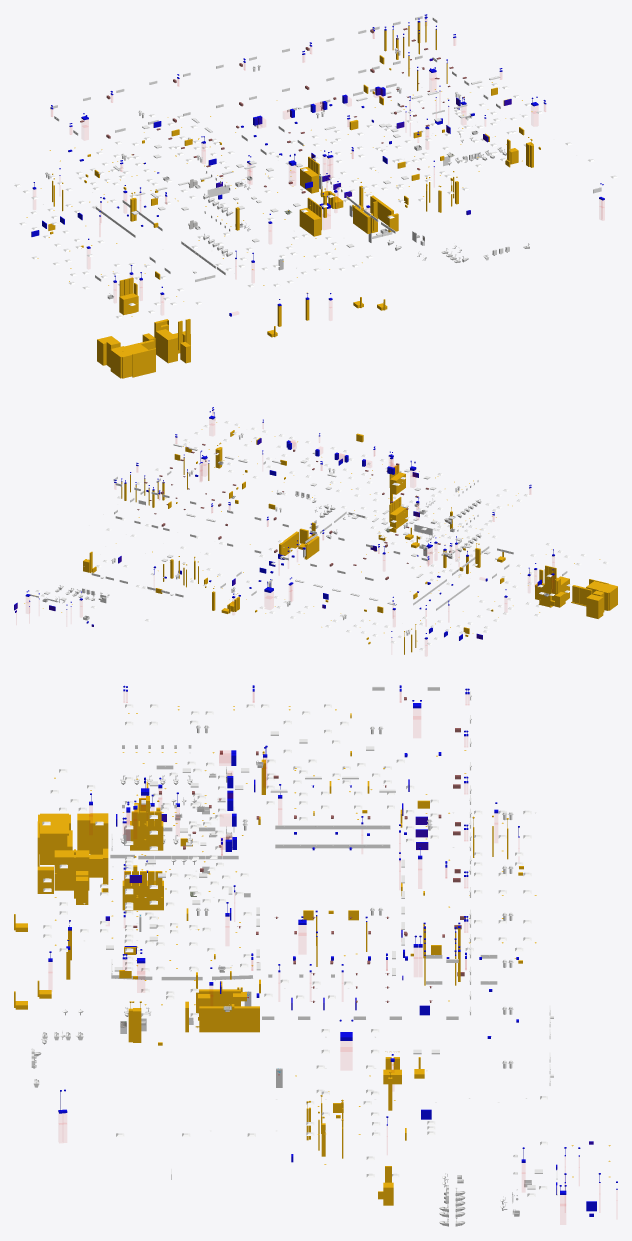
Rendered from grimes-equipment.glb.
3 views of the same model, one above another, from view 1: azimuth 30°, elevation 25°; view 2: azimuth 150°, elevation 25°; view 3: azimuth 270°, elevation 25° (orthographic). The views are drawn at different scales.
Parts seen in each view (by area): view 1: layer:equipment; view 2: layer:equipment; view 3: layer:equipment.
Boxes of the visible parts, bbox=[...] form: layer:equipment: bbox=[14, 14, 617, 378]; layer:equipment: bbox=[14, 407, 617, 654]; layer:equipment: bbox=[14, 685, 617, 1226].
Size of what is drawn, in the model's own units: 65.55 by 20.43 by 44.76.
